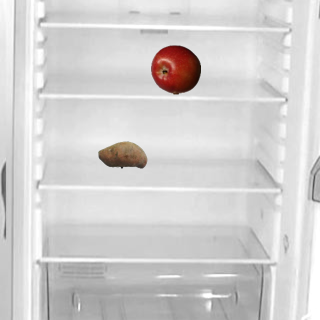Apple Braeburn: (150, 44, 200, 94)
Potato Sweet: (97, 129, 147, 179)
